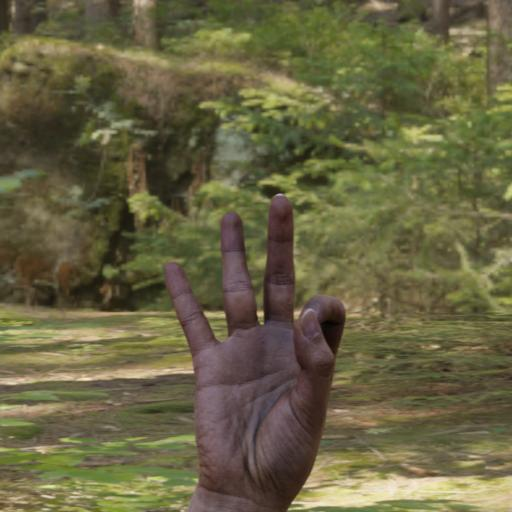F: (136, 176, 361, 500)
